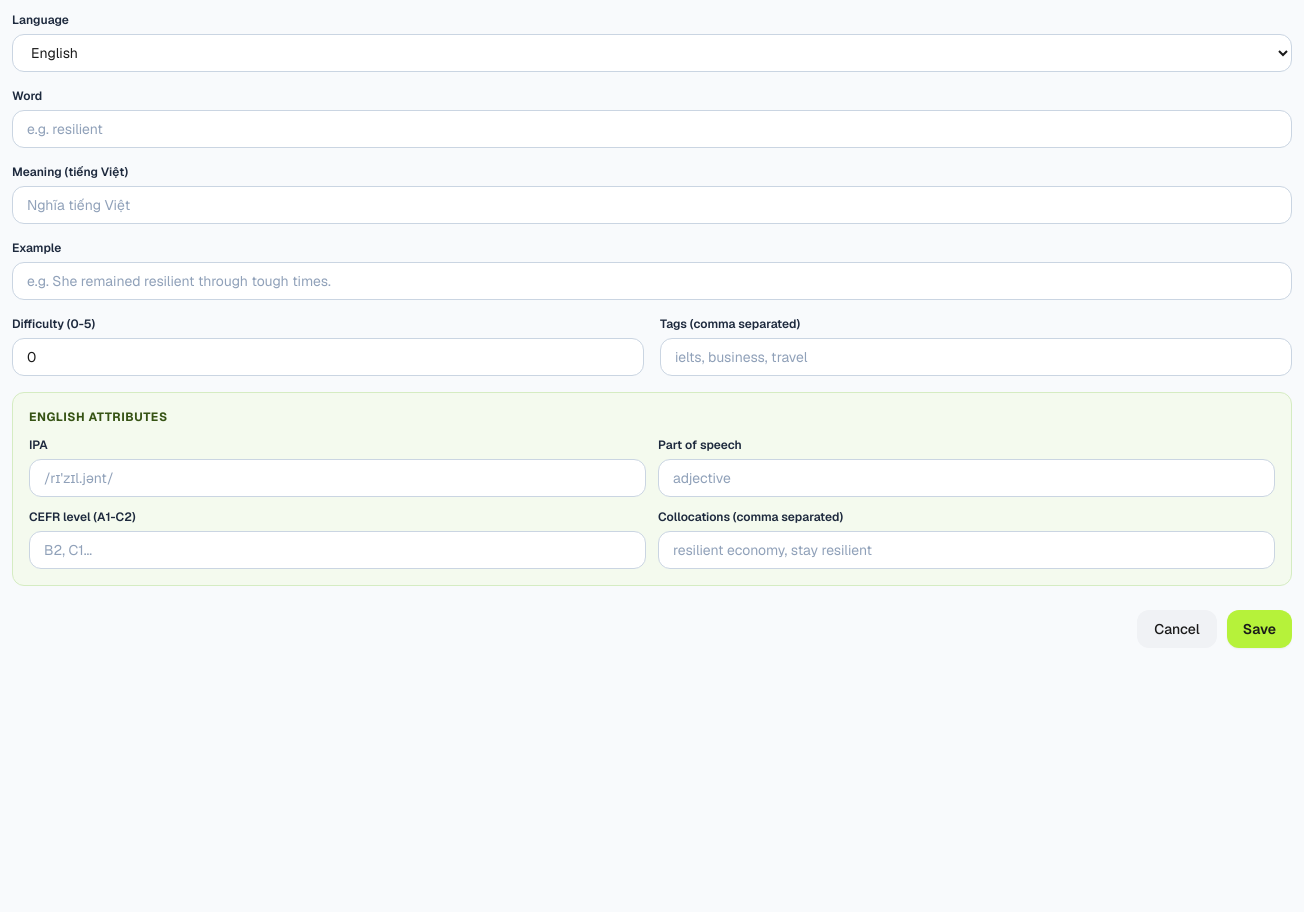
Test: VocabularyForm › switches to Japanese-specific fields when Japanese is selected
This screenshot has width=1304, height=912.
Select "Japanese" in the dropdown at [652, 53], box [12,34,1292,72]
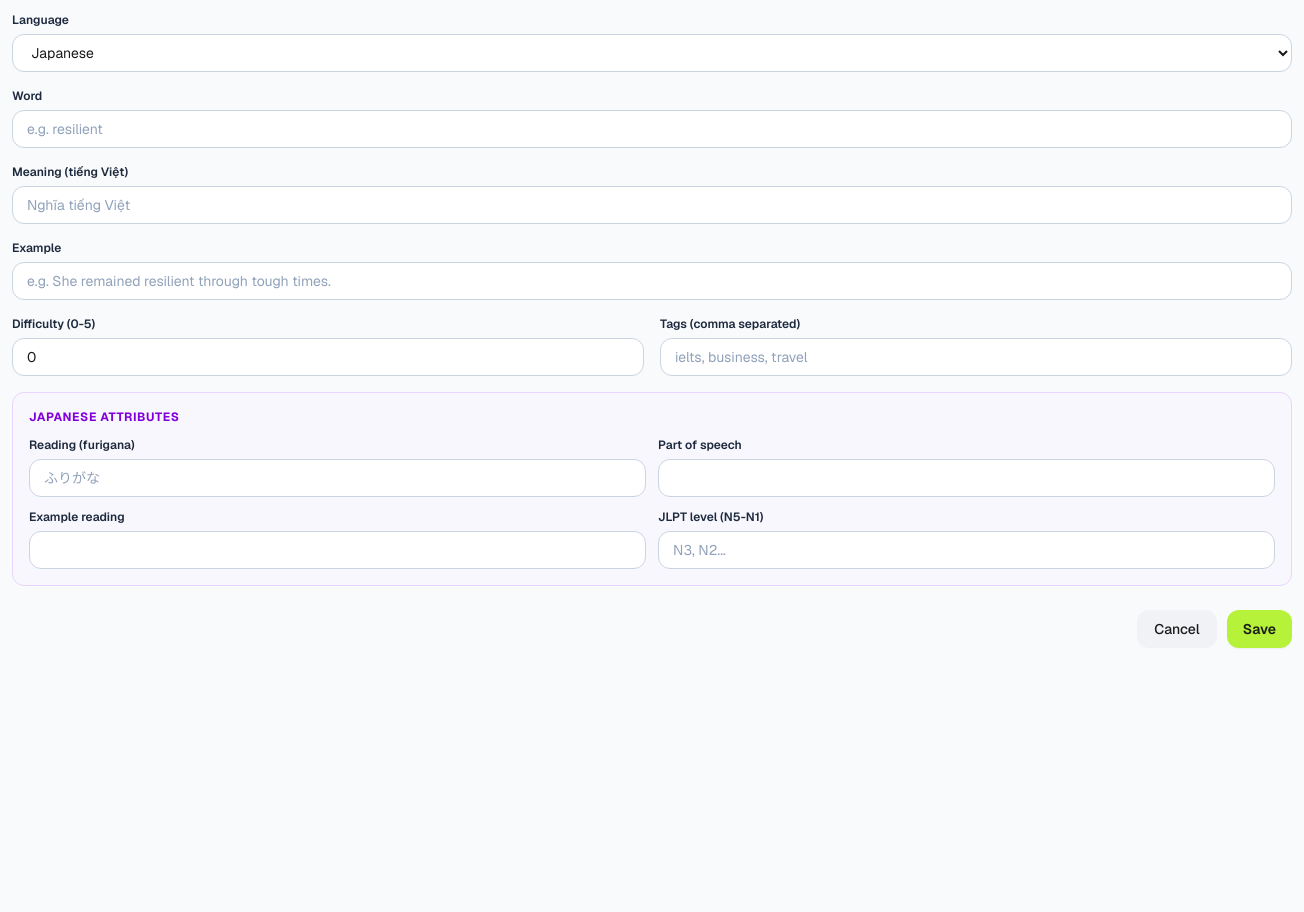
Expected: the text "Reading (furigana)" is shown, [29,437,135,453]
Expected: the text "JLPT level (N5-N1)" is shown, [658,509,763,525]
